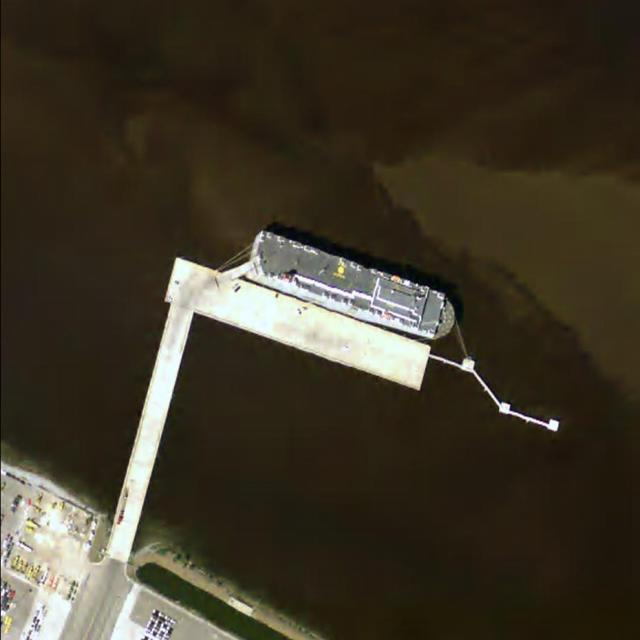Dock: (162, 255, 434, 392)
RoRo: (240, 228, 466, 345)
